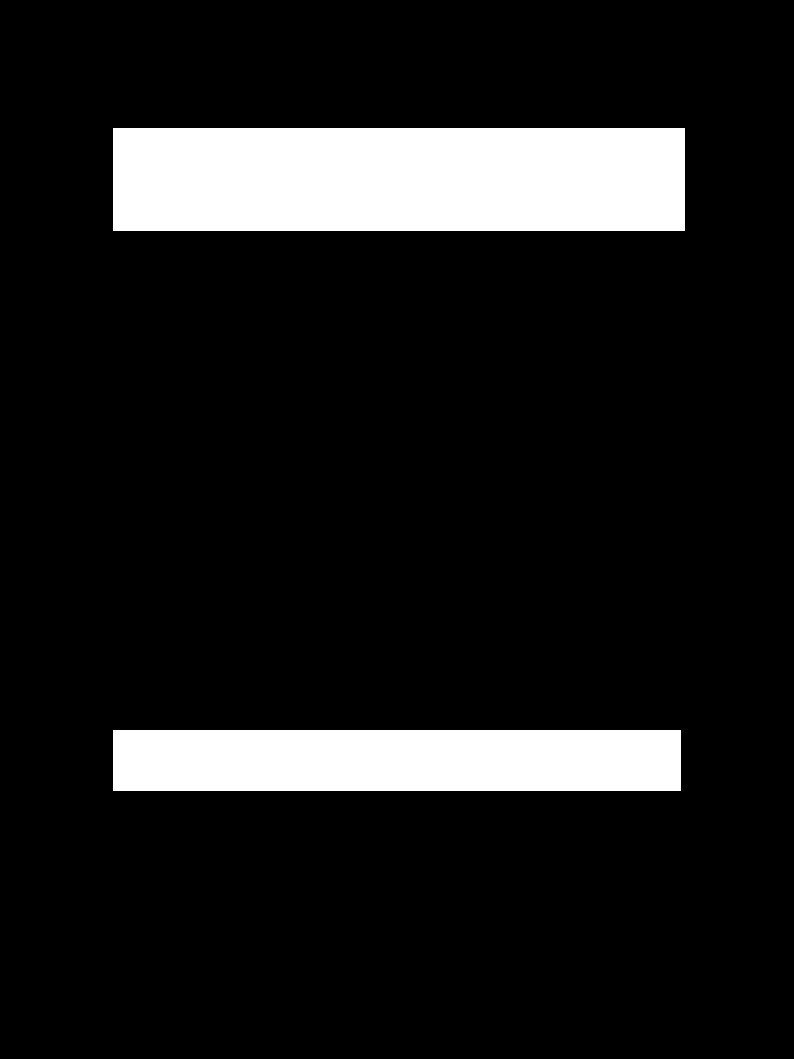table: (113, 128, 684, 230), (113, 730, 680, 790)
